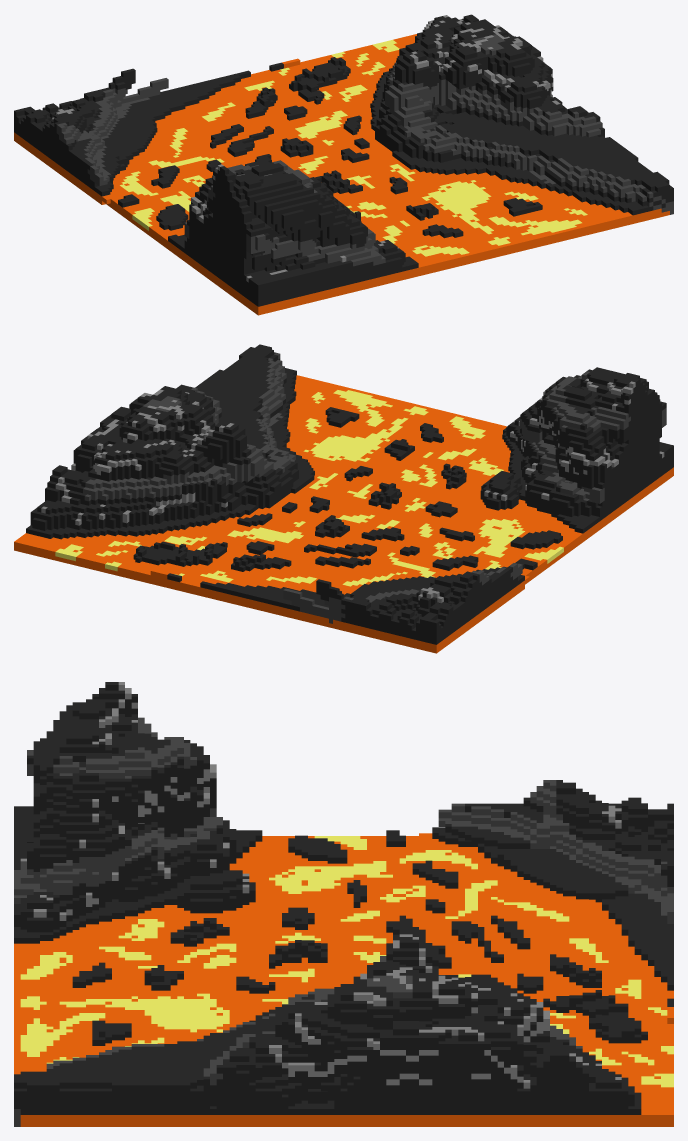
The model's file is Lava_stuff-30.obj.
3 renders of one model, top to bottom at view 1: azimuth 30°, elevation 25°; view 2: azimuth 150°, elevation 25°; view 3: azimuth 270°, elevation 25°, orthographic. The views are drawn at different scales.
Size of the model in its own units: 20.4 by 5.6 by 20.2.
1 material, 1 textured.
